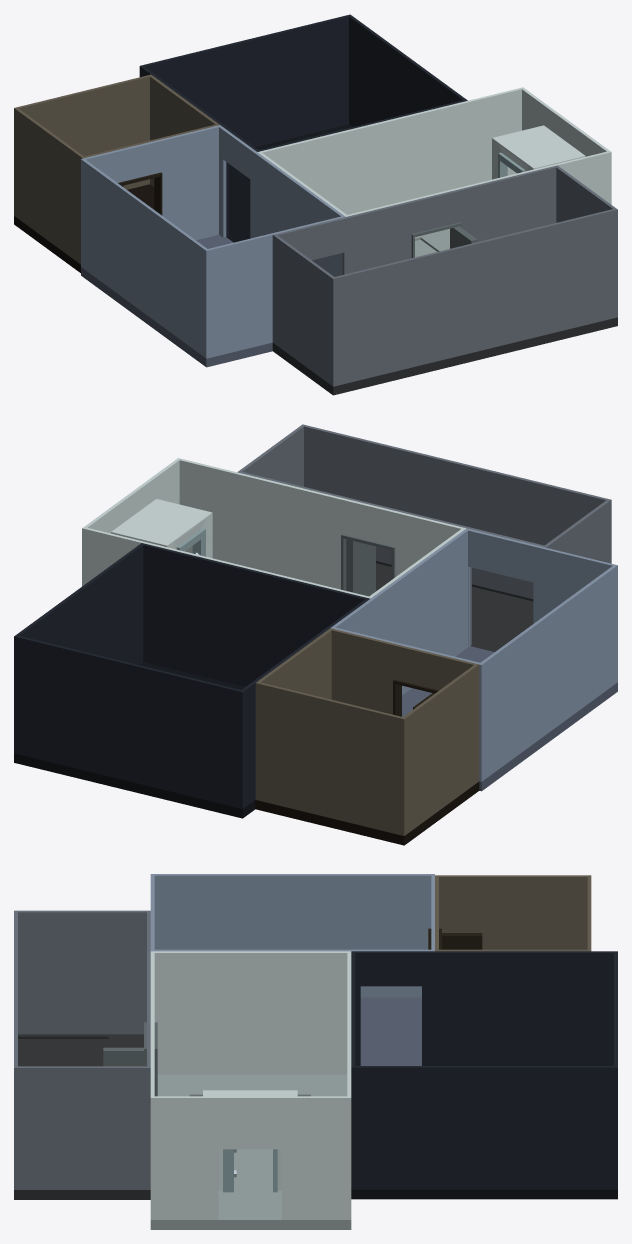
The model's file is lab_future_new.fbx.
3 renders of one model, top to bottom at view 1: azimuth 30°, elevation 25°; view 2: azimuth 150°, elevation 25°; view 3: azimuth 270°, elevation 25°, orthographic. The views are drawn at different scales.
Visible parts, largest first — view 1: engine room wall (i), main hall wall (i).001, portal room wall (i).003, tutorial room wall (i) 2, engine room wall 2, tutorial room wall (i).001, tutorial room wall (i), old archive wall (i).002, old archive wall (i), portal room wall (i), engine room wall 3.001, tutorial room wall (i) 2.001 (+12 smaller); view 2: portal room wall (i).003, portal room wall (i).002, engine room wall (i), old archive wall (i), main hall wall (i), tutorial room wall (i) 2, tutorial room wall (i) 2.001, old archive wall (i).002, portal room wall (i), old archive wall (i).001, tutorial room wall (i), main hall wall (i).003 (+12 smaller); view 3: portal room wall (i), portal room wall (i).001, main hall wall (i).002, tutorial room wall (i) 2, main hall wall (i).003, engine room wall 3.001, engine room wall 3, old archive wall (i).002, main hall floor, engine room floor, tutorial room floor, portal room floor (+9 smaller).
Part boxes in pixels (<box>): engine room wall (i): <box>331,208,617,386</box>; main hall wall (i).001: <box>257,87,524,214</box>; portal room wall (i).003: <box>143,15,348,146</box>; tutorial room wall (i) 2: <box>82,159,206,356</box>; engine room wall 2: <box>272,165,558,343</box>; tutorial room wall (i).001: <box>81,125,221,267</box>; tutorial room wall (i): <box>204,216,345,358</box>; old archive wall (i).002: <box>15,108,83,264</box>; old archive wall (i): <box>14,74,152,216</box>; portal room wall (i): <box>347,14,467,126</box>; engine room wall 3.001: <box>274,235,333,384</box>; tutorial room wall (i) 2.001: <box>219,126,343,276</box>; portal room wall (i).003: <box>17,636,240,808</box>; portal room wall (i).002: <box>143,543,366,686</box>; engine room wall (i): <box>301,424,611,598</box>; old archive wall (i): <box>255,681,406,835</box>; main hall wall (i): <box>177,458,465,589</box>; tutorial room wall (i) 2: <box>480,566,615,779</box>; tutorial room wall (i) 2.001: <box>332,530,467,695</box>; old archive wall (i).002: <box>403,665,477,834</box>; portal room wall (i): <box>14,543,144,753</box>; old archive wall (i).001: <box>329,628,479,782</box>; tutorial room wall (i): <box>465,528,617,683</box>; main hall wall (i).003: <box>84,459,212,558</box>; portal room wall (i): <box>351,1066,617,1189</box>; portal room wall (i).001: <box>351,951,617,1065</box>; main hall wall (i).002: <box>154,951,347,1074</box>; tutorial room wall (i) 2: <box>154,874,431,997</box>; main hall wall (i).003: <box>154,1090,347,1219</box>; engine room wall 3.001: <box>18,910,146,1034</box>; engine room wall 3: <box>18,1066,146,1189</box>; old archive wall (i).002: <box>439,875,587,949</box>; main hall floor: <box>150,1074,351,1229</box>; engine room floor: <box>14,1034,150,1199</box>; tutorial room floor: <box>360,997,421,1065</box>; portal room floor: <box>351,1189,617,1199</box>.
Size of the model in its own units: 9712 by 2666 by 11074.
